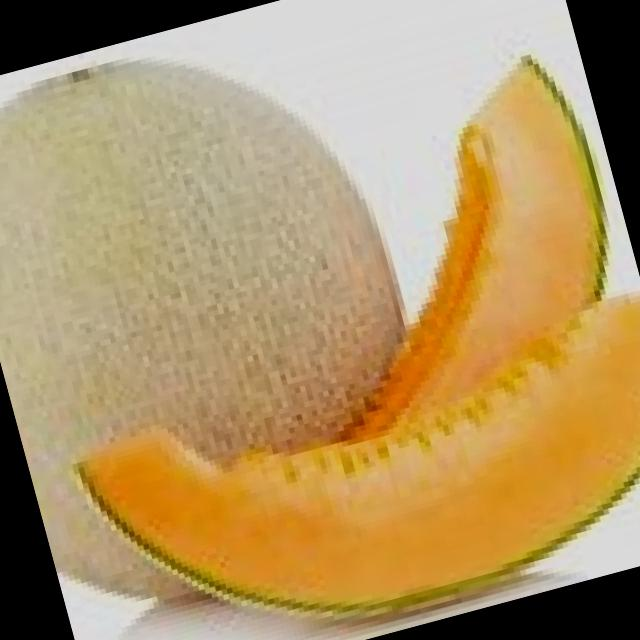cantaloupe: (0, 3, 461, 633), (66, 292, 640, 640)
